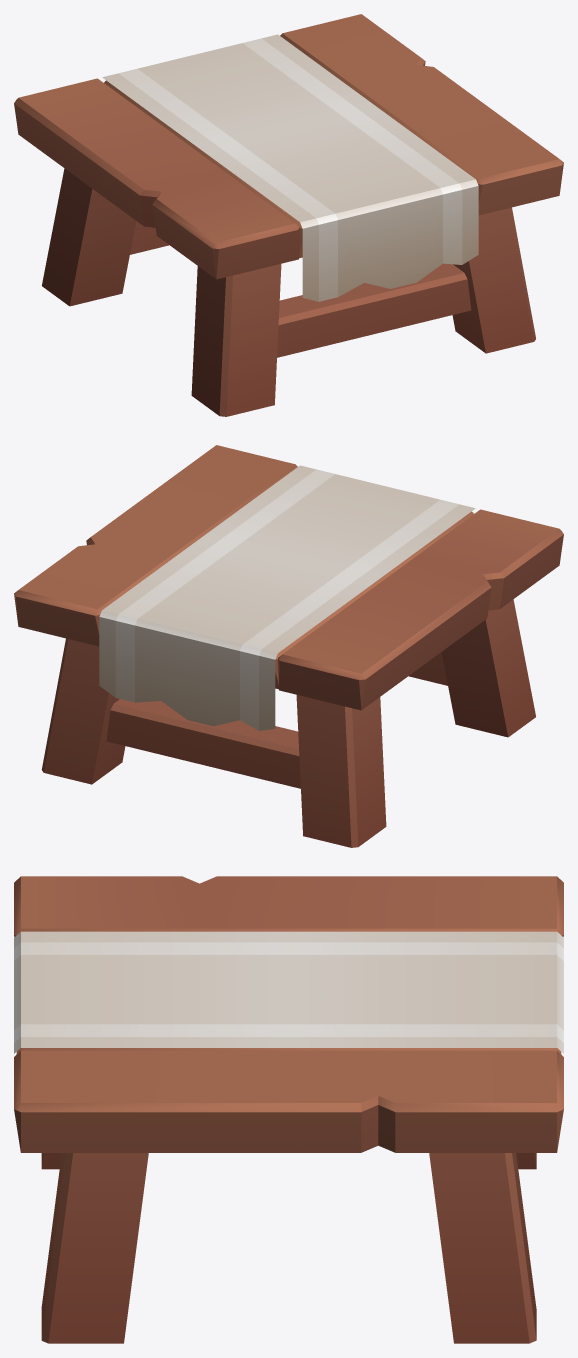
File: table_medium_tablecloth.gltf
3 renders of one model, top to bottom at view 1: azimuth 30°, elevation 25°; view 2: azimuth 150°, elevation 25°; view 3: azimuth 270°, elevation 25°, orthographic. The views are drawn at different scales.
Visible parts, largest first — view 1: table_medium_tablecloth; view 2: table_medium_tablecloth; view 3: table_medium_tablecloth.
Part boxes in pixels (left/top/right/bottom): table_medium_tablecloth: left=14, top=14, right=563, bottom=416; table_medium_tablecloth: left=14, top=445, right=563, bottom=847; table_medium_tablecloth: left=14, top=876, right=563, bottom=1343.
Size of the model in its own units: 2 by 1 by 2.
Materials: 1 (1 with a texture image).
